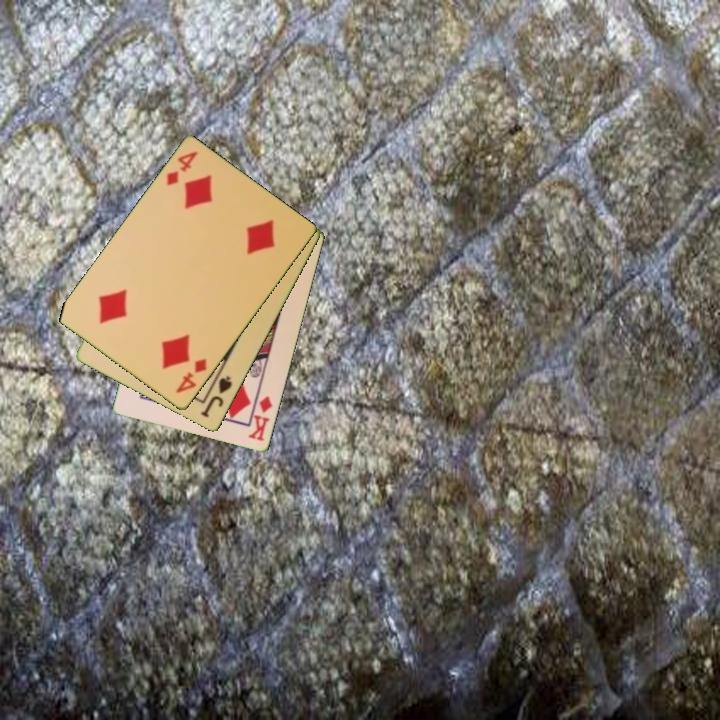4d: (172, 355, 210, 397), (163, 148, 201, 189)
Js: (197, 372, 235, 421)
Kd: (245, 388, 275, 444)
